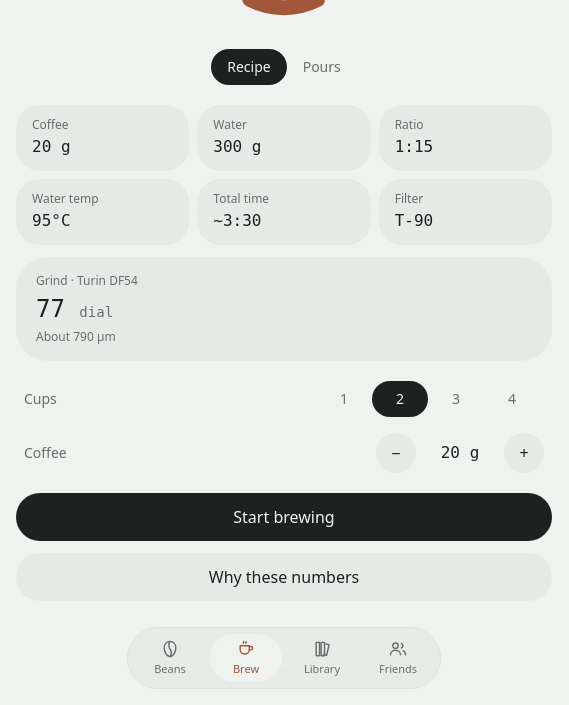
Test case: Brewing › starts from the recipe, takes you to the pours and runs the timer
The width and height of the screenshot is (569, 705).
(page scrolled)
Step 1. Click the button "Start brewing" → (284, 517), box 16,493 -> 552,541
(page scrolled)
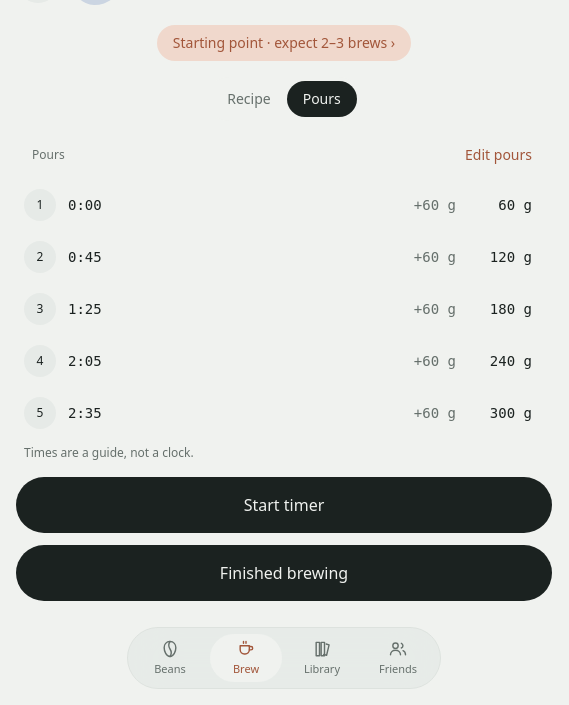
Check: the element "Pours" is shown
Step 2. Click the button "Start timer" → (284, 505), box 16,477 -> 552,533
(page scrolled)
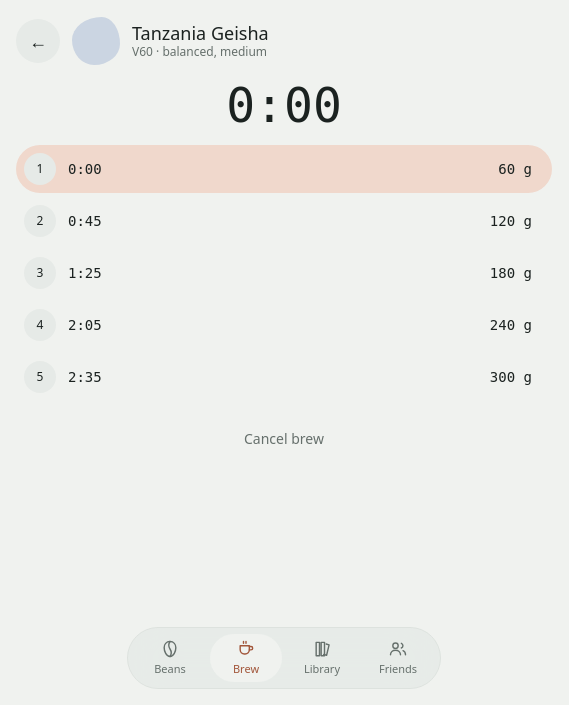
Check: the 1st text "0:00" is shown, box 226,77 -> 342,133
Check: the radio button labelled "Recipe" is gone
Check: the button "Edit pours" is gone
